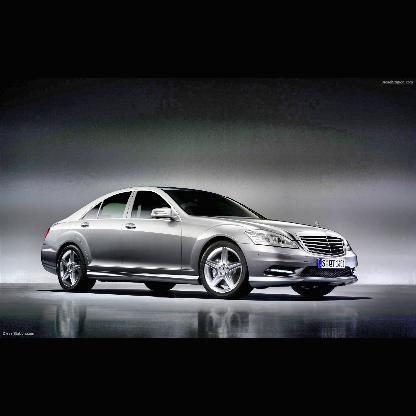Mercedes-Benz S-Class Sedan 2012: (41, 186, 362, 301)
